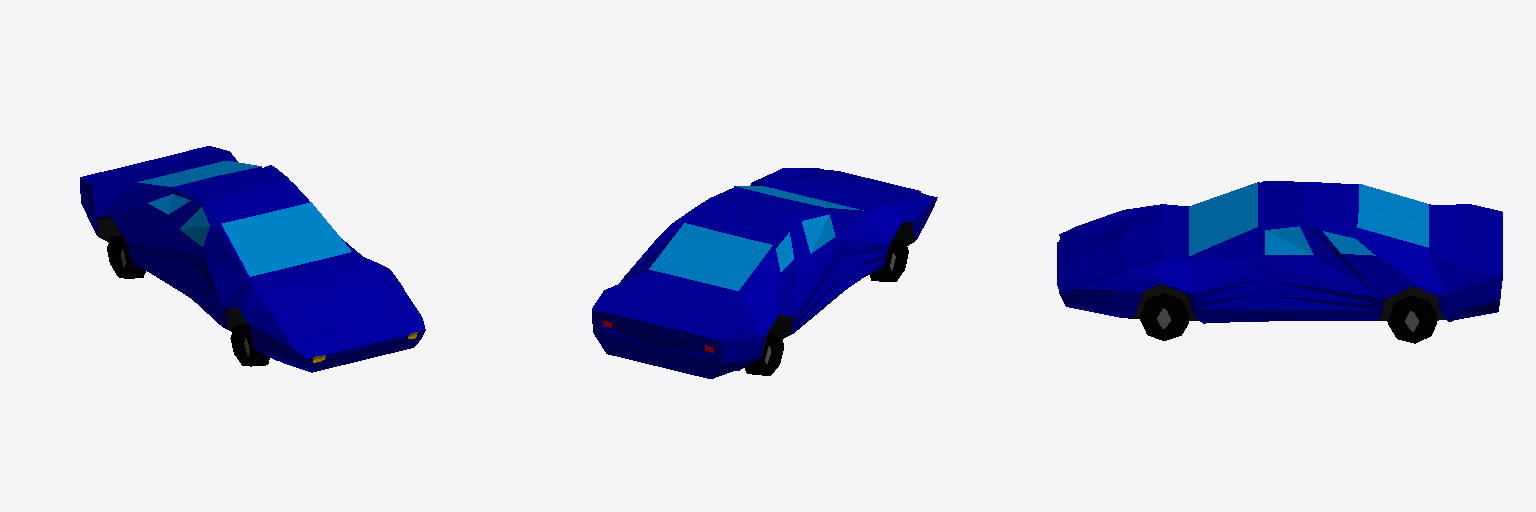
The model's file is car3.obj.
3 renders of one model, left to right at view 1: azimuth 30°, elevation 25°; view 2: azimuth 150°, elevation 25°; view 3: azimuth 270°, elevation 25°, orthographic.
Visible parts, largest first — view 1: Car.Body.002; view 2: Car.Body.002; view 3: Car.Body.002.
Boxes of the visible parts, box(x1,y1,x2,y2) form: Car.Body.002: box(80, 146, 425, 372); Car.Body.002: box(592, 168, 937, 378); Car.Body.002: box(1057, 181, 1502, 343).
Size of the model in its own units: 1.12 by 0.7715 by 2.77.